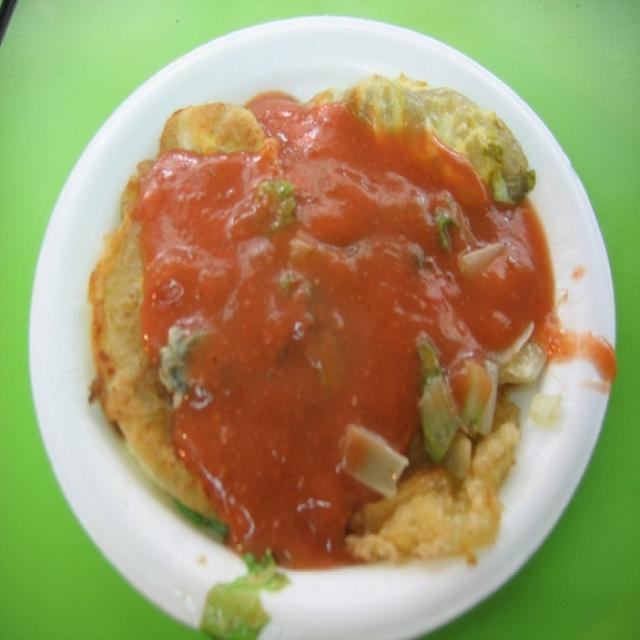熟制海鲜: (16, 28, 614, 624)
